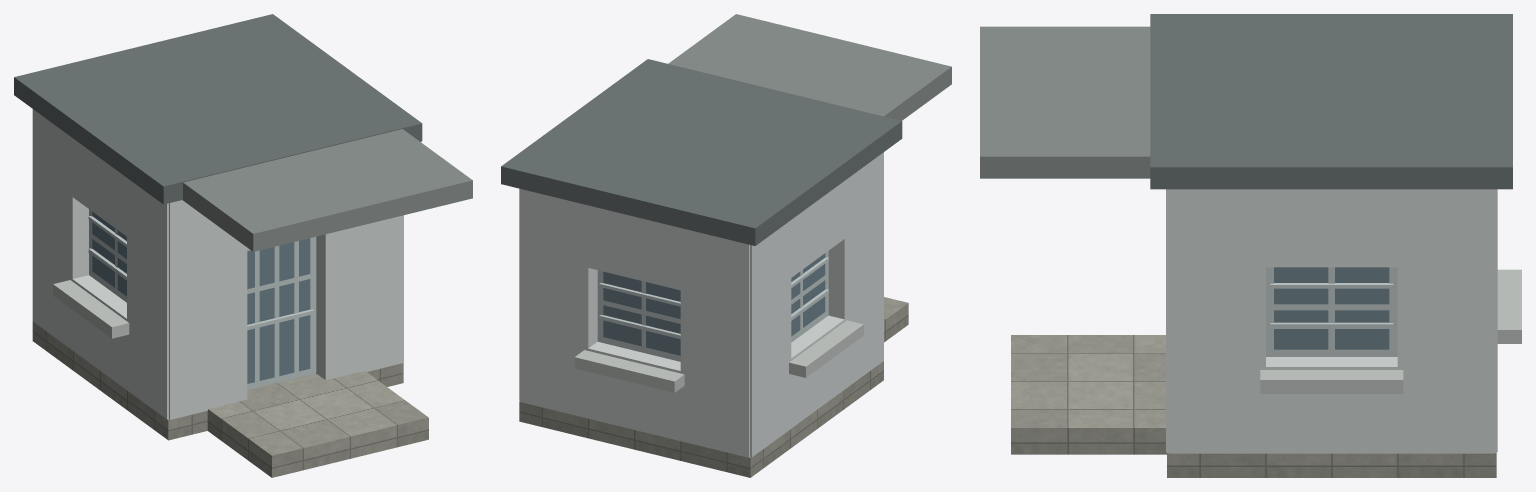
3 renders of one model, left to right at view 1: azimuth 30°, elevation 25°; view 2: azimuth 150°, elevation 25°; view 3: azimuth 270°, elevation 25°, orthographic. The views are drawn at different scales.
Parts seen in each view (by area): view 1: guard__panel, guard__metalroof, guard__entrance, guard__threshold-front, guard__glass, guard__frame, guard__stone, guard__sill; view 2: guard__panel, guard__metalroof, guard__entrance, guard__stone, guard__glass, guard__sill, guard__frame, guard__threshold-front; view 3: guard__panel, guard__metalroof, guard__entrance, guard__threshold-front, guard__stone, guard__glass, guard__sill, guard__frame.
Part boxes in pixels (x1,y1,x2,y2): guard__panel: [32, 109, 403, 419]; guard__metalroof: [14, 14, 422, 204]; guard__entrance: [183, 129, 472, 251]; guard__threshold-front: [207, 371, 428, 477]; guard__glass: [92, 212, 310, 383]; guard__frame: [88, 209, 316, 389]; guard__stone: [32, 321, 403, 440]; guard__sill: [53, 280, 129, 338]; guard__panel: [519, 152, 883, 457]; guard__metalroof: [501, 59, 902, 245]; guard__entrance: [668, 14, 951, 120]; guard__stone: [519, 361, 883, 477]; guard__glass: [603, 253, 825, 355]; guard__sill: [574, 320, 863, 392]; guard__frame: [597, 251, 828, 361]; guard__threshold-front: [884, 297, 908, 342]; guard__panel: [1166, 189, 1497, 453]; guard__metalroof: [1150, 14, 1512, 189]; guard__entrance: [980, 26, 1150, 178]; guard__threshold-front: [1011, 335, 1166, 454]; guard__stone: [1167, 452, 1496, 477]; guard__glass: [1274, 267, 1389, 349]; guard__sill: [1260, 269, 1521, 393]; guard__frame: [1266, 267, 1397, 356].
Size of the model in its own units: 3.46 by 3.19 by 4.93.
Materials: 7 (1 with a texture image).
